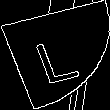L_N: (27, 26, 83, 84)
